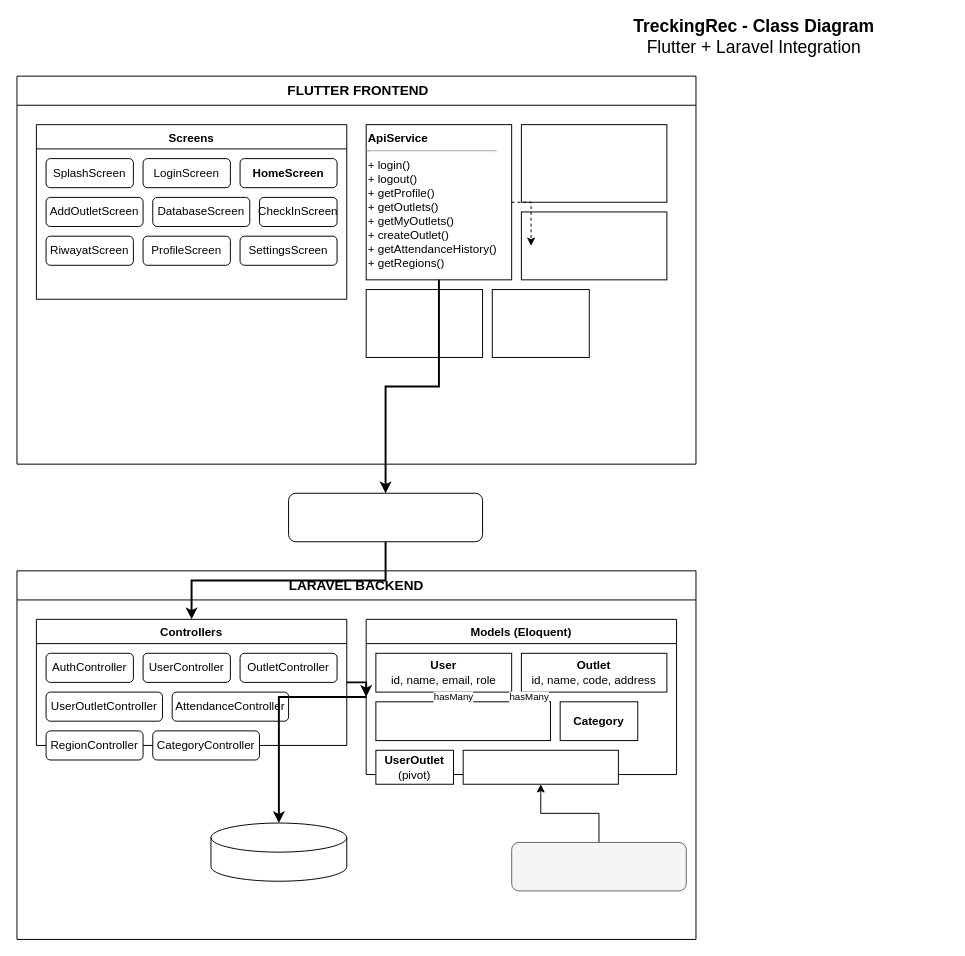
Image size: 965x956. Some labels were removed from this diagram. The shapes that lost their labels are listed below. From the top down, each one's centre as x and y in pixels, then its label:
At point 593,163: "LanguageService + setLanguage() + t() [translate] - currentLocale".
At point 593,245: "SharedPreferences Token Storage User Data Cache".
At point 424,323: "AppTheme Colors, Gradients UI Decorations".
At point 540,323: "Widgets GlassCard GradientButton".
At point 385,517: "HTTP REST API http://127.0.0.1:8000/api".
At point 462,721: "Attendance user_id, outlet_id, check_in/out".
At point 540,766: "Region/Regency/District".
At point 278,851: "MySQL Database".
At point 598,866: "Legend: Flutter | Laravel | Database | API".
